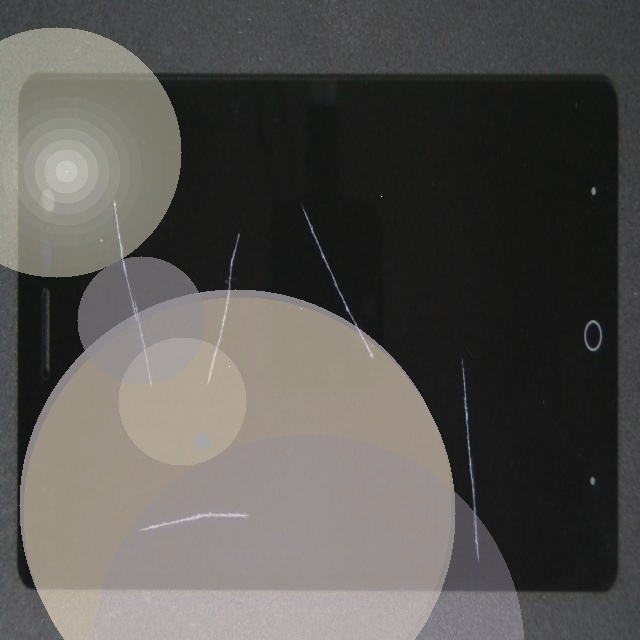scratch: (133, 23, 333, 424), (168, 54, 463, 254)
